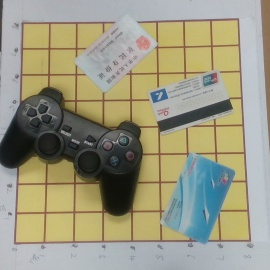card: (160, 151, 235, 246), (71, 12, 158, 93), (148, 69, 234, 135)
remote: (3, 87, 143, 222)
